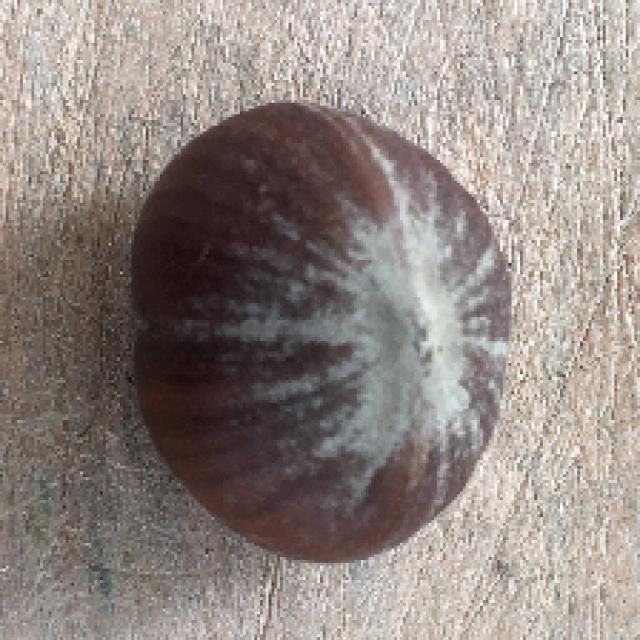damagedHazelnut: (123, 95, 519, 562)
